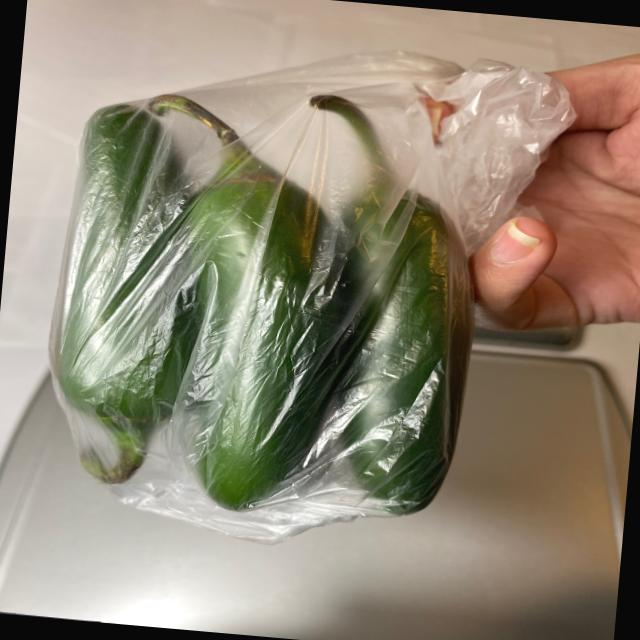chilli: (31, 54, 512, 538)
